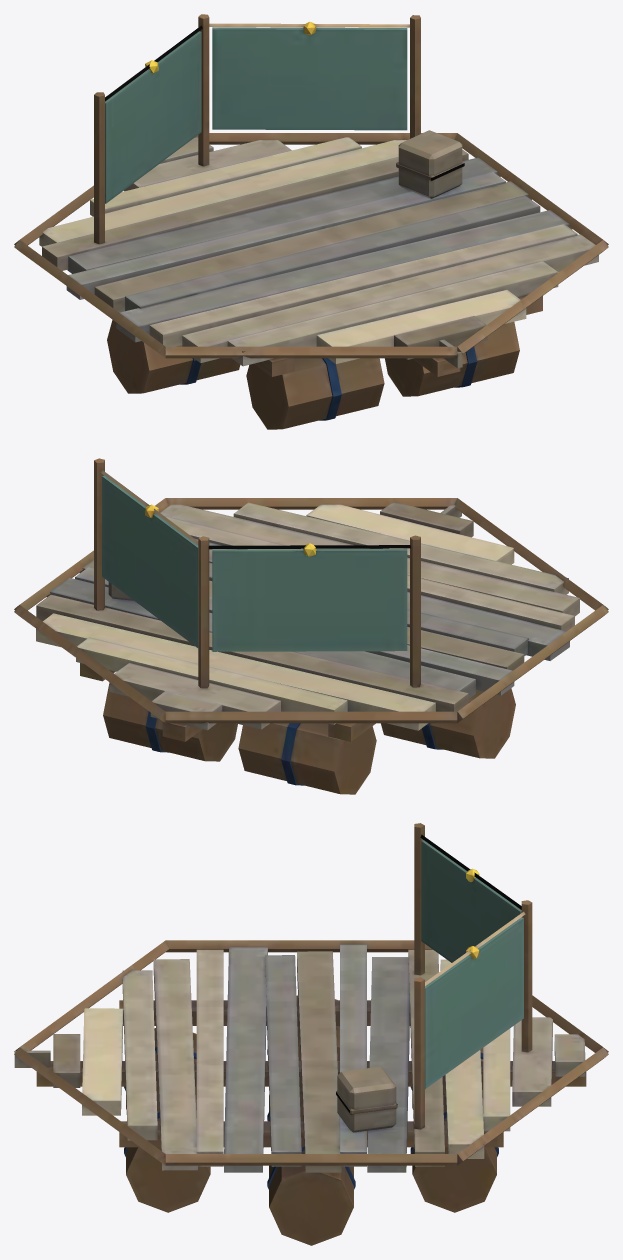
The model's file is raft-b-age1.glb.
The picture shows the model from 3 angles, top to bottom: view 1: azimuth 30°, elevation 25°; view 2: azimuth 150°, elevation 25°; view 3: azimuth 270°, elevation 25°; orthographic projection.
Parts seen in each view (by area): view 1: raft-b-age1; view 2: raft-b-age1; view 3: raft-b-age1.
Part boxes in pixels (x1,y1,x2,y2): raft-b-age1: (14,14,608,429); raft-b-age1: (14,458,608,794); raft-b-age1: (14,823,608,1245).
Bounding box in the file's own units: 1.59 × 0.866 × 1.83.
Materials: 1 (1 with a texture image).
